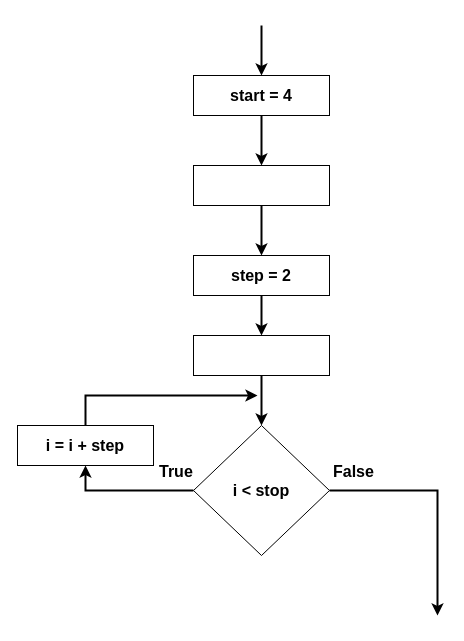
Image size: 464x641. Some labels were removed from this diagram. Here are the shapes that lost their labels. From the top down, the centre of each, then its label:
the point at 261,185: stop = 10
the point at 261,355: i = start
